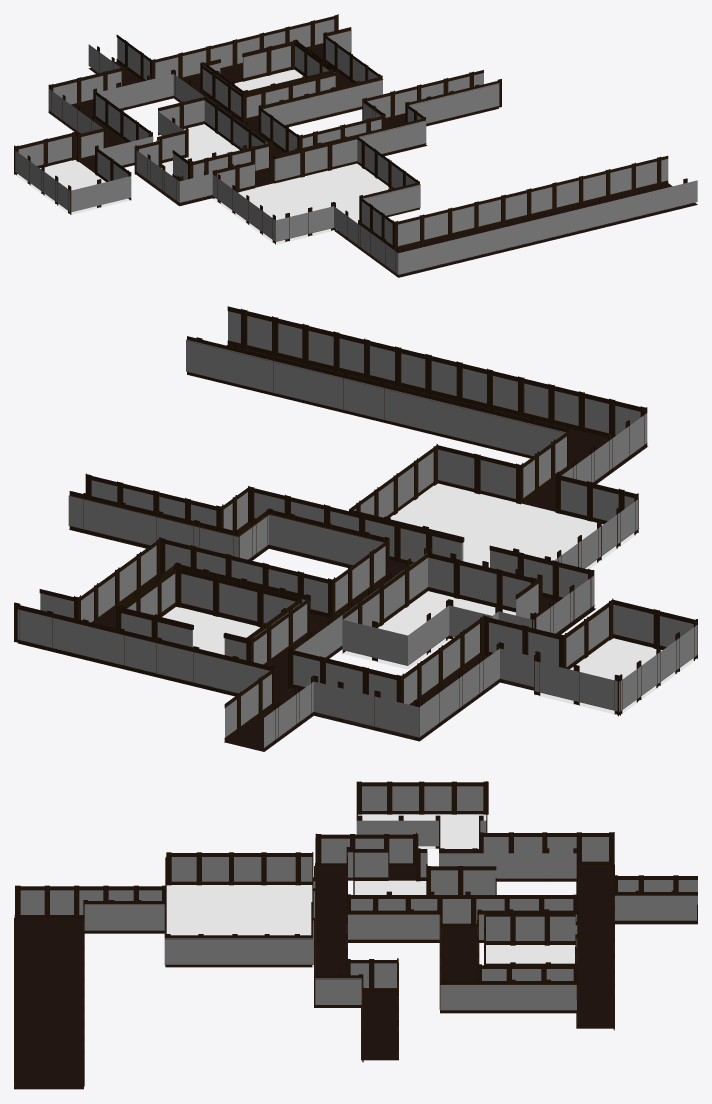
Rendered from Map(1,1)2.FBX.
3 views of the same model, one above another, from view 1: azimuth 30°, elevation 25°; view 2: azimuth 150°, elevation 25°; view 3: azimuth 270°, elevation 25° (orthographic). The views are drawn at different scales.
Parts seen in each view (by area): view 1: wall1, wall2, wooden pole, wall5, Path, Room1, wall4, wall3, UPWood2, 모퉁이기둥, UPWood1, UPWood5 (+9 smaller); view 2: wall1, wall2, wooden pole, wall5, Room1, wall3, Path, wall4, UPWood1, UPWood2, 모퉁이기둥, UnderWood1 (+10 smaller); view 3: Path, wall1, wooden pole, Room1, wall2, wall5, UPWood1, wall4, wall3, Room3, UnderWood1, UPWood2 (+7 smaller).
Boxes of the visible parts, x1=… form: wall1: x1=15, y1=44, x2=697, y2=274; wall2: x1=274, y1=83, x2=668, y2=246; wooden pole: x1=14, y1=14, x2=687, y2=277; wall5: x1=261, y1=30, x2=483, y2=151; Path: x1=48, y1=46, x2=697, y2=277; Room1: x1=212, y1=163, x2=420, y2=244; wall4: x1=203, y1=46, x2=335, y2=117; wall3: x1=117, y1=19, x2=334, y2=80; UPWood2: x1=273, y1=80, x2=668, y2=224; 모퉁이기둥: x1=76, y1=32, x2=408, y2=249; UPWood1: x1=18, y1=68, x2=269, y2=173; UPWood5: x1=260, y1=27, x2=483, y2=139; wall1: x1=228, y1=311, x2=697, y2=747; wall2: x1=91, y1=339, x2=566, y2=561; wooden pole: x1=14, y1=308, x2=697, y2=743; wall5: x1=40, y1=496, x2=385, y2=622; Room1: x1=390, y1=483, x2=639, y2=569; wall3: x1=17, y1=609, x2=271, y2=737; Path: x1=18, y1=345, x2=647, y2=751; wall4: x1=121, y1=573, x2=307, y2=664; UPWood1: x1=227, y1=306, x2=697, y2=679; UPWood2: x1=91, y1=336, x2=568, y2=542; 모퉁이기둥: x1=74, y1=427, x2=570, y2=716; UnderWood1: x1=227, y1=340, x2=697, y2=744; Path: x1=14, y1=849, x2=697, y2=1089; wall1: x1=20, y1=786, x2=697, y2=923; wooden pole: x1=15, y1=781, x2=678, y2=1084; Room1: x1=165, y1=885, x2=313, y2=967; wall2: x1=84, y1=891, x2=361, y2=1004; wall5: x1=348, y1=914, x2=576, y2=1010; UPWood1: x1=20, y1=782, x2=697, y2=898; wall4: x1=479, y1=914, x2=577, y2=980; wall3: x1=615, y1=895, x2=696, y2=920; Room3: x1=358, y1=814, x2=486, y2=848; UnderWood1: x1=14, y1=811, x2=697, y2=1085; UPWood2: x1=83, y1=888, x2=362, y2=1060.
Bounding box in the file's own units: 136 × 7.76 × 143.
